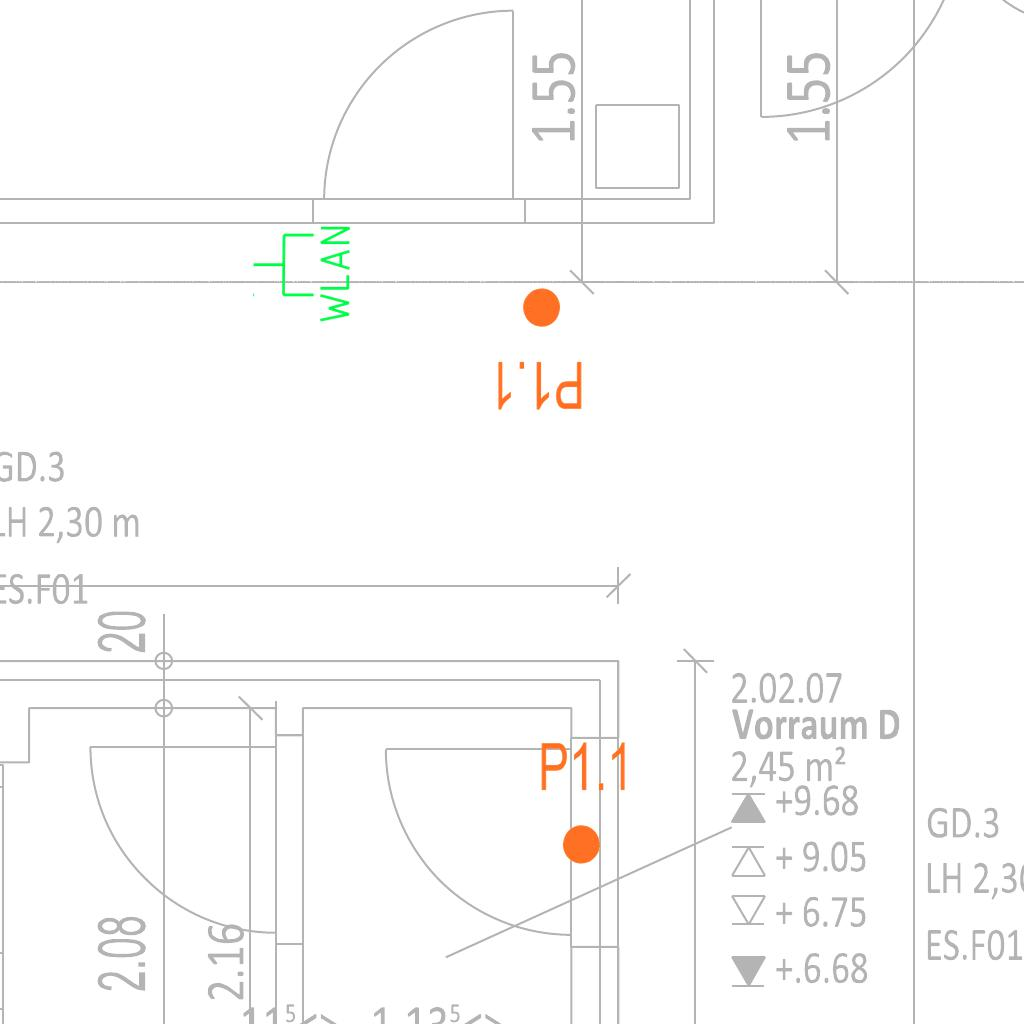Downlight_LED_Einbauleuchten_Flur: (538, 739, 631, 867), (492, 285, 585, 413)
WLAN: (250, 222, 354, 327)
